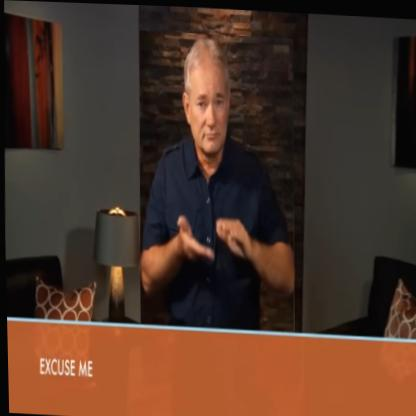ExcuseMe: (133, 29, 298, 332)
